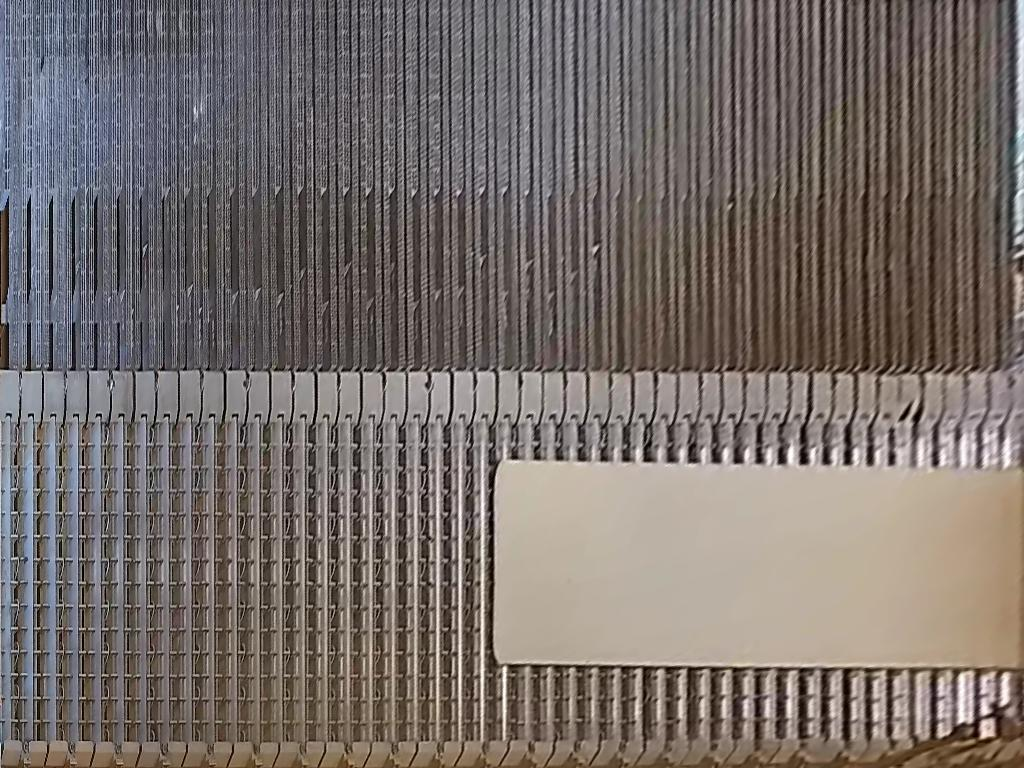steel: (493, 458, 1024, 671)
